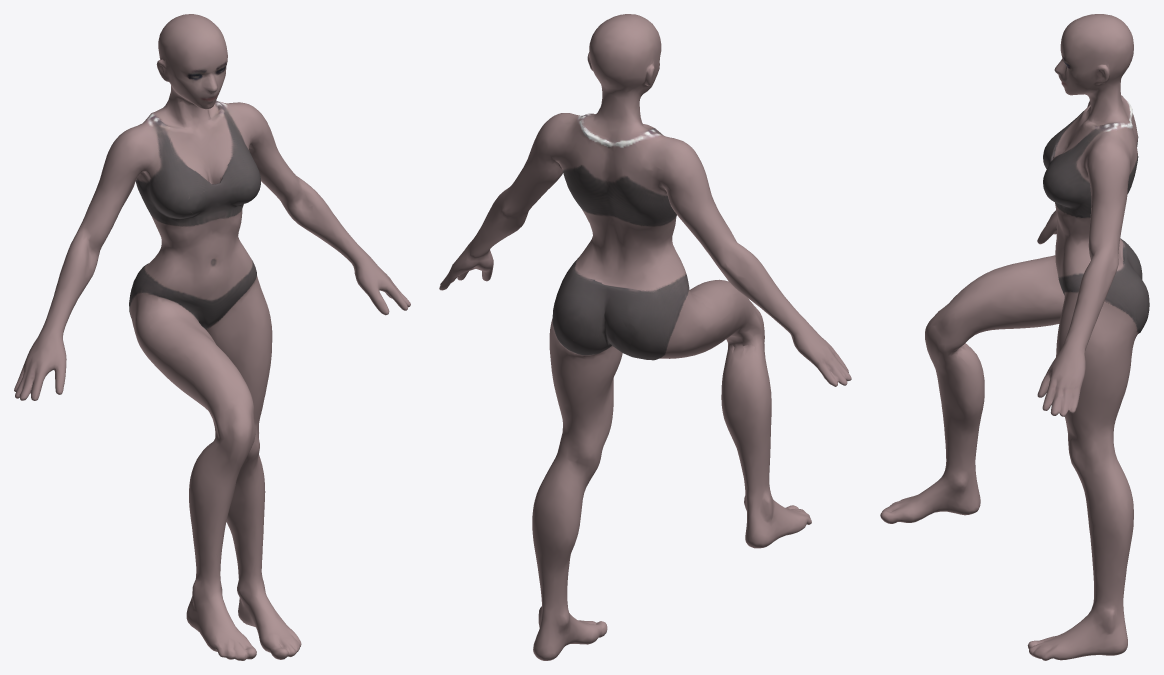
File: 06-ThighL-60-child60-twist0-candidate.glb
The picture shows the model from 3 angles, left to right: view 1: azimuth 30°, elevation 25°; view 2: azimuth 150°, elevation 25°; view 3: azimuth 270°, elevation 25°; orthographic projection. The views are drawn at different scales.
Parts seen in each view (by area): view 1: candidate; view 2: candidate; view 3: candidate.
Boxes of the visible parts, bbox=[...] form: candidate: bbox=[14, 14, 410, 660]; candidate: bbox=[439, 14, 851, 660]; candidate: bbox=[880, 14, 1149, 660].
Size of the model in its own units: 0.6508 by 1 by 0.4017.
Materials: 1 (1 with a texture image).
